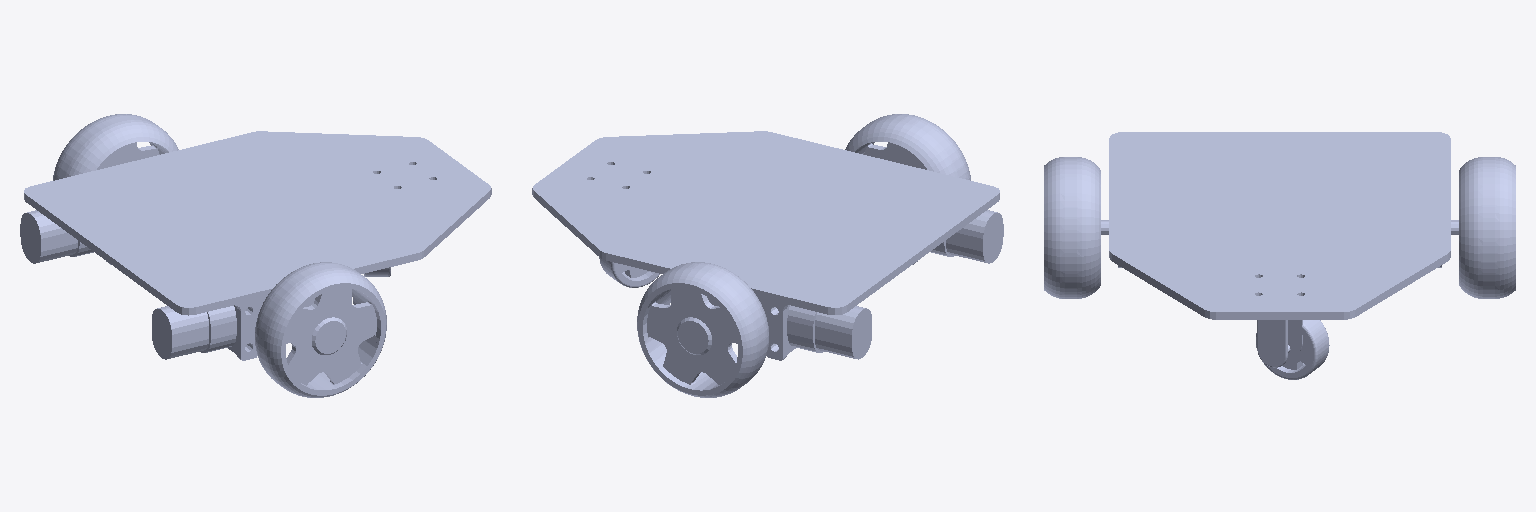
The robot description file, URDF, robot "my_team_robot":
<?xml version="1.0" encoding="utf-8"?>
<!-- This URDF was automatically created by SolidWorks to URDF Exporter! Originally created by [author] ([email redacted]) 
     Commit Version: 1.6.0-4-g7f85cfe  Build Version: 1.6.7995.38578
     For more information, please see http://wiki.ros.org/sw_urdf_exporter -->
<robot
  name="my_team_robot">
  <link
    name="base_link">
    <inertial>
      <origin
        xyz="-0.0168237810190544 7.13458084972141E-09 -0.00760225410164192"
        rpy="0 0 0" />
      <mass
        value="0.0953373583617677" />
      <inertia
        ixx="5.94842863178214E-05"
        ixy="1.95289627130984E-11"
        ixz="-8.9958564906486E-07"
        iyy="9.86494627792786E-05"
        iyz="-1.60193586284062E-12"
        izz="0.000154178001735707" />
    </inertial>
    <visual>
      <origin
        xyz="0 0 0"
        rpy="0 0 0" />
      <geometry>
        <mesh
          filename="package://my_team_robot/meshes/base_link.STL" />
      </geometry>
      <material
        name="">
        <color
          rgba="0.792156862745098 0.819607843137255 0.933333333333333 1" />
      </material>
    </visual>
    <collision>
      <origin
        xyz="0 0 0"
        rpy="0 0 0" />
      <geometry>
        <mesh
          filename="package://my_team_robot/meshes/base_link.STL" />
      </geometry>
    </collision>
  </link>
  <link
    name="leftwheel">
    <inertial>
      <origin
        xyz="6.9389E-17 0 0.0064675"
        rpy="0 0 0" />
      <mass
        value="0.014896" />
      <inertia
        ixx="3.4328E-06"
        ixy="-1.3702E-22"
        ixz="2.8683E-21"
        iyy="3.4328E-06"
        iyz="-7.4454E-22"
        izz="6.1544E-06" />
    </inertial>
    <visual>
      <origin
        xyz="0 0 0"
        rpy="0 0 0" />
      <geometry>
        <mesh
          filename="package://my_team_robot/meshes/leftwheel.STL" />
      </geometry>
      <material
        name="">
        <color
          rgba="0.79216 0.81961 0.93333 1" />
      </material>
    </visual>
    <collision>
      <origin
        xyz="0 0 0"
        rpy="0 0 0" />
      <geometry>
        <mesh
          filename="package://my_team_robot/meshes/leftwheel.STL" />
      </geometry>
    </collision>
  </link>
  <joint
    name="left_wheel"
    type="continuous">
    <origin
      xyz="-0.018999 0.0808 -0.0141"
      rpy="1.5708 0 0" />
    <parent
      link="base_link" />
    <child
      link="leftwheel" />
    <axis
      xyz="0 0 -1" />
    <limit
      effort="10"
      velocity="10" />
    <dynamics
      damping="0.1"
      friction="0.1" />
  </joint>
  <link
    name="rightwheel">
    <inertial>
      <origin
        xyz="0 -5.5511E-17 -0.0064675"
        rpy="0 0 0" />
      <mass
        value="0.014896" />
      <inertia
        ixx="3.4328E-06"
        ixy="2.8475E-22"
        ixz="4.5719E-22"
        iyy="3.4328E-06"
        iyz="3.0947E-21"
        izz="6.1544E-06" />
    </inertial>
    <visual>
      <origin
        xyz="0 0 0"
        rpy="0 0 0" />
      <geometry>
        <mesh
          filename="package://my_team_robot/meshes/rightwheel.STL" />
      </geometry>
      <material
        name="">
        <color
          rgba="0.79216 0.81961 0.93333 1" />
      </material>
    </visual>
    <collision>
      <origin
        xyz="0 0 0"
        rpy="0 0 0" />
      <geometry>
        <mesh
          filename="package://my_team_robot/meshes/rightwheel.STL" />
      </geometry>
    </collision>
  </link>
  <joint
    name="right_wheel"
    type="continuous">
    <origin
      xyz="-0.018999 -0.0808 -0.0141"
      rpy="1.5708 0 0" />
    <parent
      link="base_link" />
    <child
      link="rightwheel" />
    <axis
      xyz="0 0 1" />
    <limit
      effort="10"
      velocity="10" />
    <dynamics
      damping="0.1"
      friction="0.1" />
  </joint>
  <link
    name="conquay">
    <inertial>
      <origin
        xyz="-0.0028851 0.00054871 -0.010118"
        rpy="0 0 0" />
      <mass
        value="0.00084993" />
      <inertia
        ixx="6.8227E-08"
        ixy="-4.9992E-10"
        ixz="-1.6544E-08"
        iyy="6.5695E-08"
        iyz="3.1461E-09"
        izz="3.908E-08" />
    </inertial>
    <visual>
      <origin
        xyz="0 0 0"
        rpy="0 0 0" />
      <geometry>
        <mesh
          filename="package://my_team_robot/meshes/conquay.STL" />
      </geometry>
      <material
        name="">
        <color
          rgba="0.79216 0.81961 0.93333 1" />
      </material>
    </visual>
    <collision>
      <origin
        xyz="0 0 0"
        rpy="0 0 0" />
      <geometry>
        <mesh
          filename="package://my_team_robot/meshes/conquay.STL" />
      </geometry>
    </collision>
  </link>
  <joint
    name="con_quay"
    type="continuous">
    <origin
      xyz="0.058851 0 -0.003"
      rpy="0 0 0" />
    <parent
      link="base_link" />
    <child
      link="conquay" />
    <axis
      xyz="0 0 1" />
    <limit
      effort="10"
      velocity="10" />
    <dynamics
      damping="0.1"
      friction="0.1" />
  </joint>
  <link
    name="wheelmini">
    <inertial>
      <origin
        xyz="-0.00037366 1.3878E-17 0.0019648"
        rpy="0 0 0" />
      <mass
        value="0.0031218" />
      <inertia
        ixx="1.7079E-07"
        ixy="3.8469E-22"
        ixz="-2.3606E-08"
        iyy="1.663E-07"
        iyz="2.1953E-22"
        izz="2.9043E-07" />
    </inertial>
    <visual>
      <origin
        xyz="0 0 0"
        rpy="0 0 0" />
      <geometry>
        <mesh
          filename="package://my_team_robot/meshes/wheelmini.STL" />
      </geometry>
      <material
        name="">
        <color
          rgba="0.79216 0.81961 0.93333 1" />
      </material>
    </visual>
    <collision>
      <origin
        xyz="0 0 0"
        rpy="0 0 0" />
      <geometry>
        <mesh
          filename="package://my_team_robot/meshes/wheelmini.STL" />
      </geometry>
    </collision>
  </link>
  <joint
    name="wheel_mini"
    type="continuous">
    <origin
      xyz="-0.00748548418996223 0.00345941128543842 -0.0236000000000019"
      rpy="1.5707963267949 0 0" />
    <parent
      link="conquay" />
    <child
      link="wheelmini" />
    <axis
      xyz="0.186828263287934 0 -0.982392589567335" />
  </joint>
</robot>

--- What the picture shows (computed from the rendered views, not written in the file) ---
The picture shows the robot from 3 angles, left to right: view 1: azimuth 30°, elevation 25°; view 2: azimuth 150°, elevation 25°; view 3: azimuth 270°, elevation 25°; orthographic projection.
Model my_team_robot with 5 links and 4 joints (4 continuous), rooted at base_link, posed all joints at 0.
Links seen in each view (by area): view 1: base_link, rightwheel, leftwheel; view 2: base_link, leftwheel, rightwheel, wheelmini; view 3: base_link, rightwheel, leftwheel, conquay, wheelmini.
Link boxes in pixels (x1=…): base_link: x1=20, y1=131, x2=491, y2=360; rightwheel: x1=255, y1=262, x2=386, y2=397; leftwheel: x1=53, y1=114, x2=178, y2=180; base_link: x1=532, y1=131, x2=1003, y2=360; leftwheel: x1=637, y1=262, x2=768, y2=397; rightwheel: x1=845, y1=114, x2=970, y2=180; wheelmini: x1=599, y1=257, x2=659, y2=287; base_link: x1=1101, y1=132, x2=1458, y2=319; rightwheel: x1=1044, y1=157, x2=1100, y2=298; leftwheel: x1=1459, y1=157, x2=1515, y2=298; conquay: x1=1257, y1=320, x2=1302, y2=367; wheelmini: x1=1256, y1=320, x2=1329, y2=379.
Size in the robot's own frame: 0.1521 by 0.1656 by 0.05 metres.
5 mesh visuals loaded from 5 distinct referenced files (5 binary STL).
